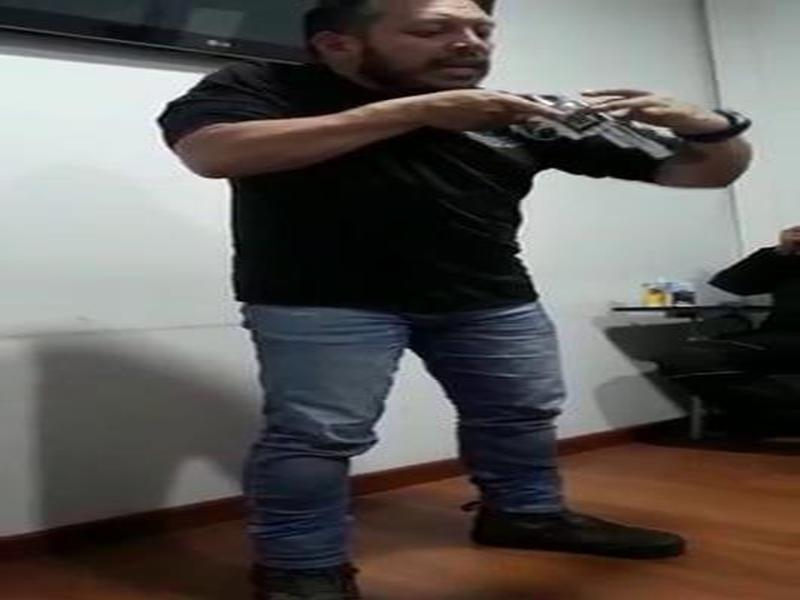Revolver: (479, 68, 708, 209)
